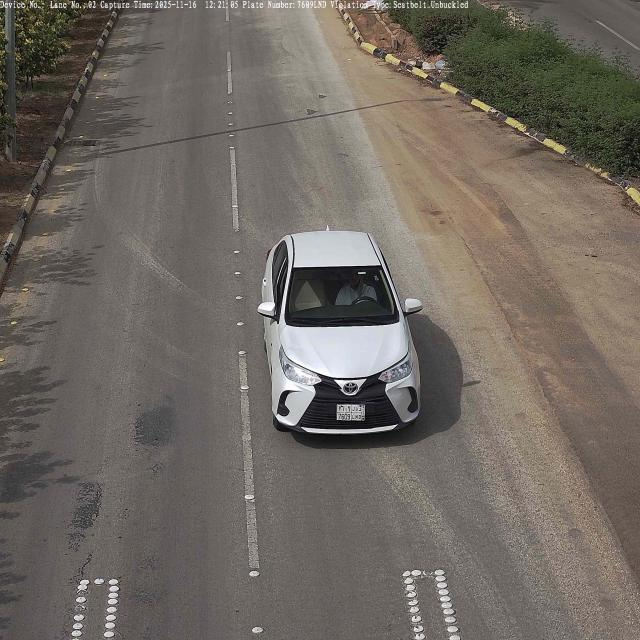person_without_seatbelt: (338, 268, 377, 306)
